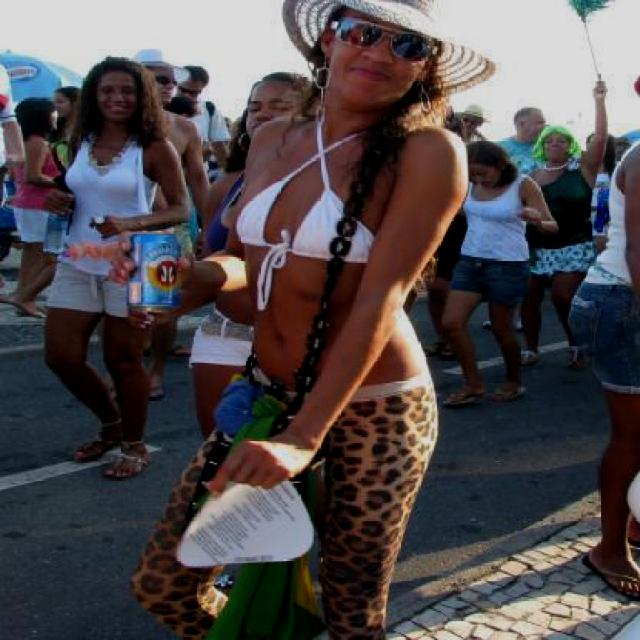face_nomask: (338, 19, 416, 90), (99, 82, 139, 120)
glasses: (336, 14, 442, 69)
hand_noglove: (213, 430, 310, 492), (107, 237, 196, 295), (85, 214, 120, 243)
head_nohelmet: (86, 52, 143, 85)
person: (202, 0, 461, 640), (45, 48, 190, 482)
